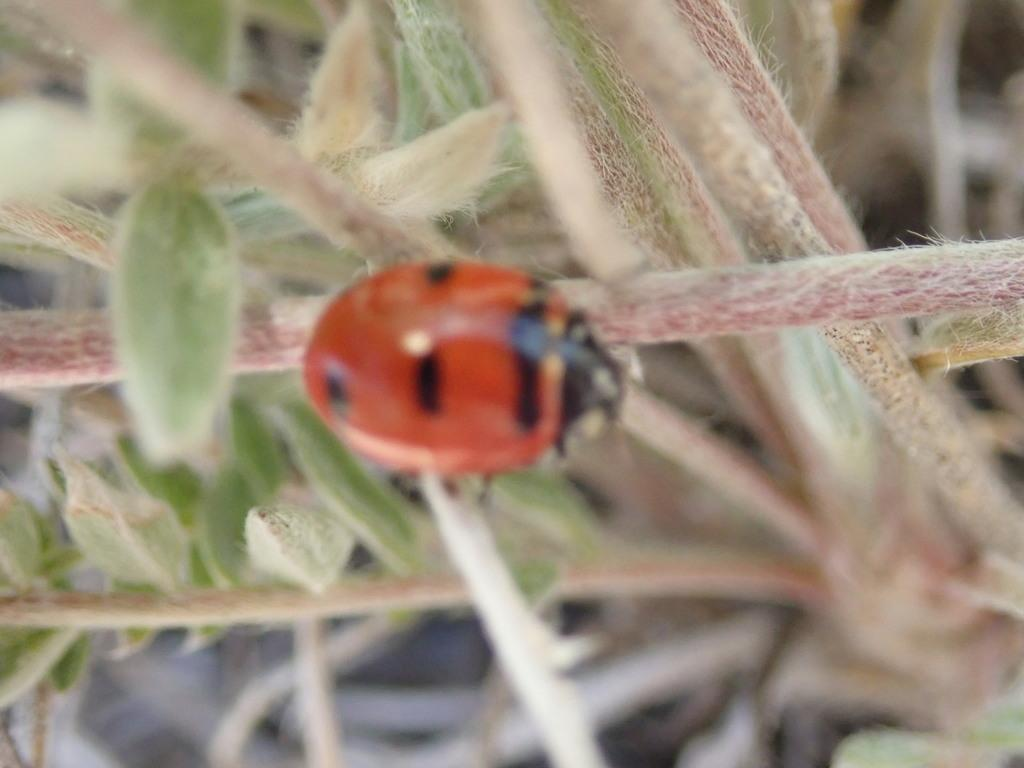ladybug: (301, 253, 637, 513)
